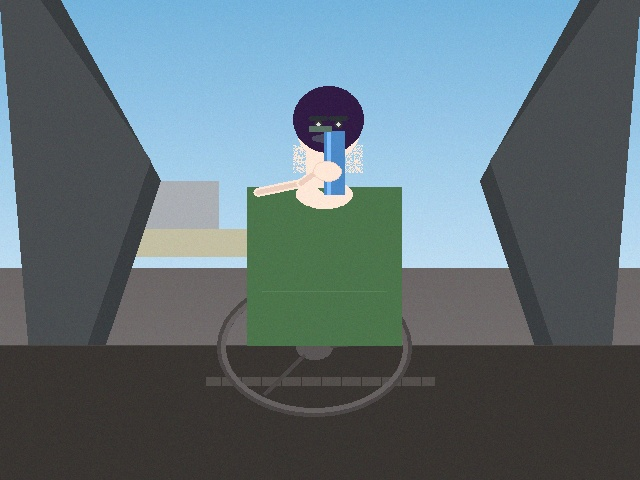drinking: (300, 116, 354, 204)
